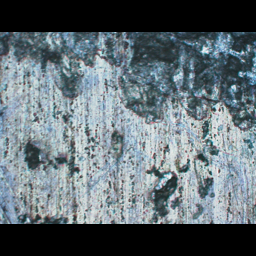d: (0, 32, 255, 141), (143, 157, 213, 219)
